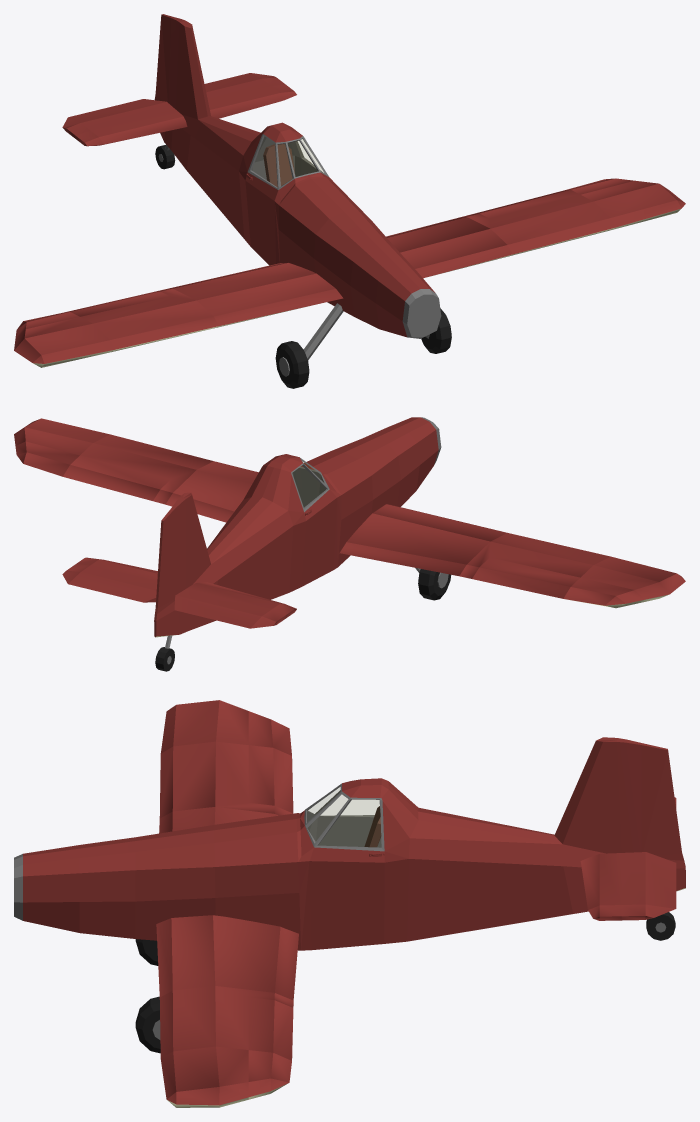
The model's file is aircraft_16_damage.glb.
The picture shows the model from 3 angles, top to bottom: view 1: azimuth 30°, elevation 25°; view 2: azimuth 150°, elevation 25°; view 3: azimuth 270°, elevation 25°; orthographic projection. The views are drawn at different scales.
Visible parts, largest first — view 1: fuselage, WingRight, WingLeft, WingRightRoot, horizontal stabiliser, WingLeftRoot, TailBreakaway, elevator, AileronLeft, AileronRight, Main tire -1, rudder (+3 smaller); view 2: fuselage, WingRightRoot, WingRight, WingLeft, TailBreakaway, AileronRight, AileronLeft, horizontal stabiliser, WingLeftRoot, elevator, rudder, Main tire -1; view 3: fuselage, TailBreakaway, WingLeft, WingLeftRoot, WingRight, AileronLeft, horizontal stabiliser, AileronRight, rudder, elevator, WingRightRoot, Main tire 1.
Part boxes in pixels (<box>): fuselage: <box>195,117,441,338</box>; WingRight: <box>14,288,218,367</box>; WingLeft: <box>459,180,685,256</box>; WingRightRoot: <box>166,262,343,328</box>; horizontal stabiliser: <box>66,77,296,146</box>; WingLeftRoot: <box>386,217,512,278</box>; TailBreakaway: <box>154,17,216,180</box>; elevator: <box>62,73,275,131</box>; AileronLeft: <box>472,178,633,218</box>; AileronRight: <box>15,291,169,338</box>; Main tire -1: <box>275,341,309,388</box>; rudder: <box>155,14,173,102</box>; fuselage: <box>207,417,441,599</box>; WingRightRoot: <box>339,504,507,575</box>; WingRight: <box>459,533,685,603</box>; WingLeft: <box>14,418,213,504</box>; TailBreakaway: <box>154,492,225,637</box>; AileronRight: <box>472,557,644,608</box>; AileronLeft: <box>15,441,170,500</box>; horizontal stabiliser: <box>67,557,296,624</box>; WingLeftRoot: <box>165,461,258,522</box>; elevator: <box>62,570,276,628</box>; rudder: <box>155,508,177,608</box>; Main tire -1: <box>418,569,451,600</box>; fuselage: <box>14,778,547,950</box>; TailBreakaway: <box>548,737,685,918</box>; WingLeft: <box>159,986,293,1107</box>; WingLeftRoot: <box>156,915,298,1000</box>; WingRight: <box>159,700,292,818</box>; AileronLeft: <box>248,997,293,1099</box>; horizontal stabiliser: <box>580,852,645,920</box>; AileronRight: <box>248,711,293,813</box>; rudder: <box>641,743,681,855</box>; elevator: <box>645,797,676,919</box>; WingRightRoot: <box>159,807,278,833</box>; Main tire 1: <box>135,996,160,1053</box>.
Size of the model in its own units: 12.9 by 4.04 by 9.16.
